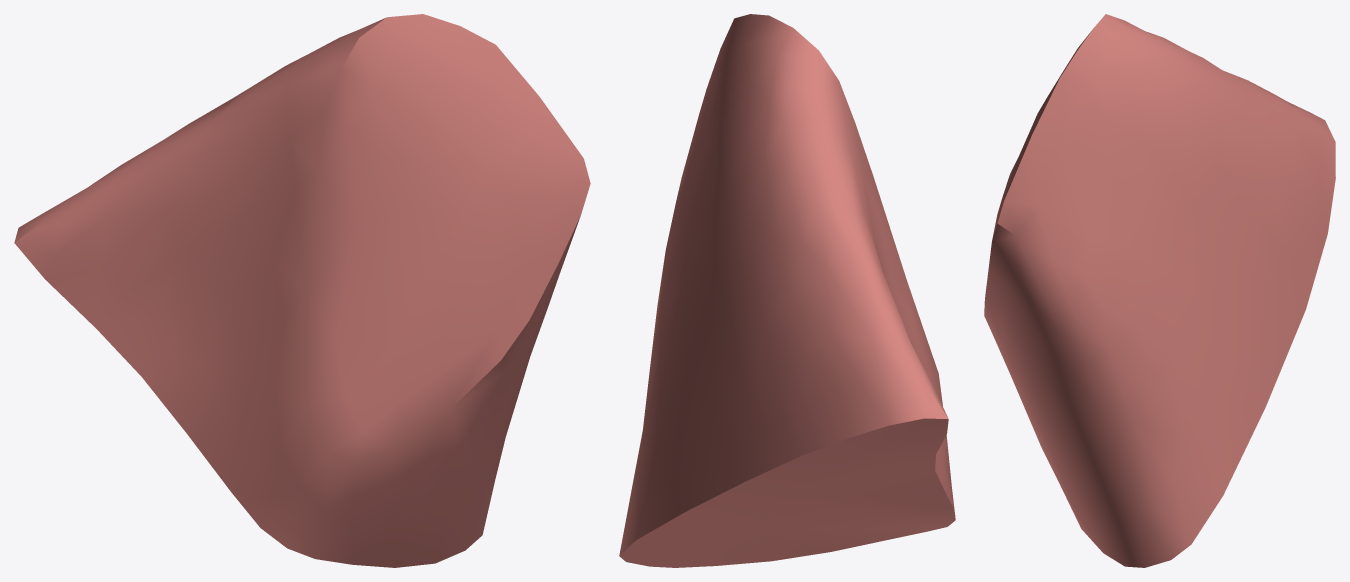
The model's file is fma38729-n_mm1811m.glb.
3 renders of one model, left to right at view 1: azimuth 30°, elevation 25°; view 2: azimuth 150°, elevation 25°; view 3: azimuth 270°, elevation 25°, orthographic. The views are drawn at different scales.
Parts seen in each view (by area): view 1: FMA38729-N_MM1811M; view 2: FMA38729-N_MM1811M; view 3: FMA38729-N_MM1811M.
Part boxes in pixels (x1,y1,x2,y2): FMA38729-N_MM1811M: [14, 14, 590, 567]; FMA38729-N_MM1811M: [619, 14, 955, 567]; FMA38729-N_MM1811M: [984, 14, 1335, 567].
Bounding box in the file's own units: 0.0106 × 0.0137 × 0.00862.
